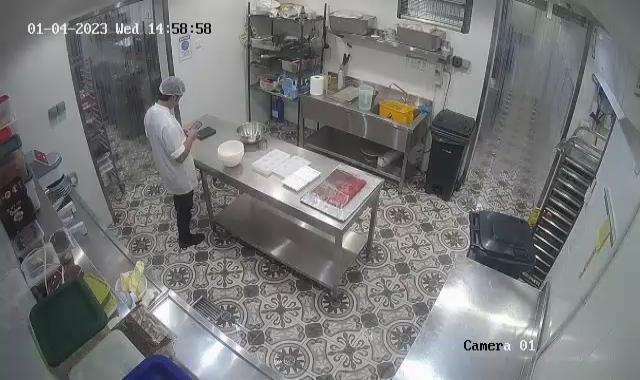hairnet: (157, 77, 186, 101)
